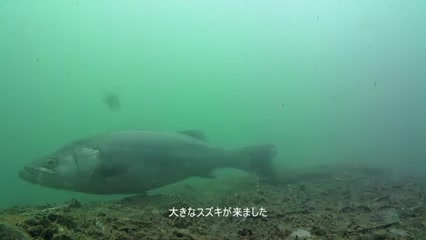suzuki: (13, 129, 285, 191)
